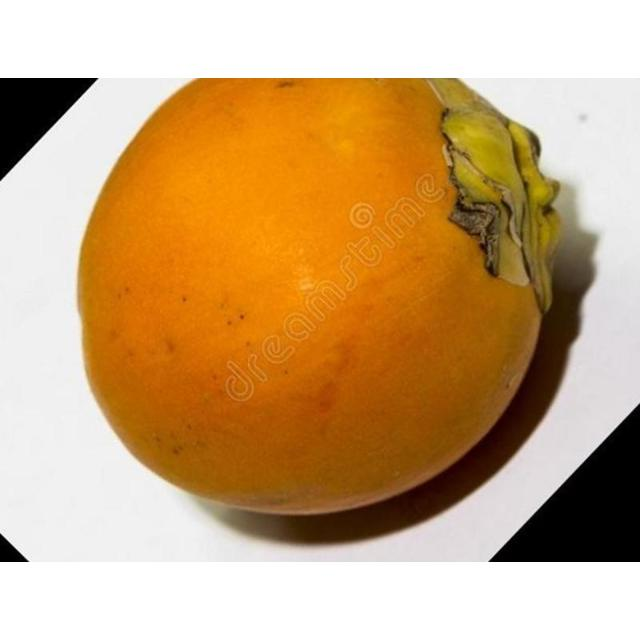good: (74, 78, 566, 523)
